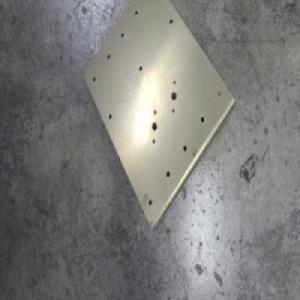MetalSheet: (81, 0, 237, 234)
